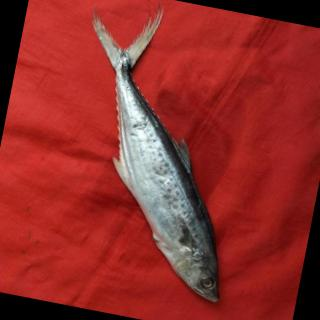Ikan: (31, 4, 281, 314)
